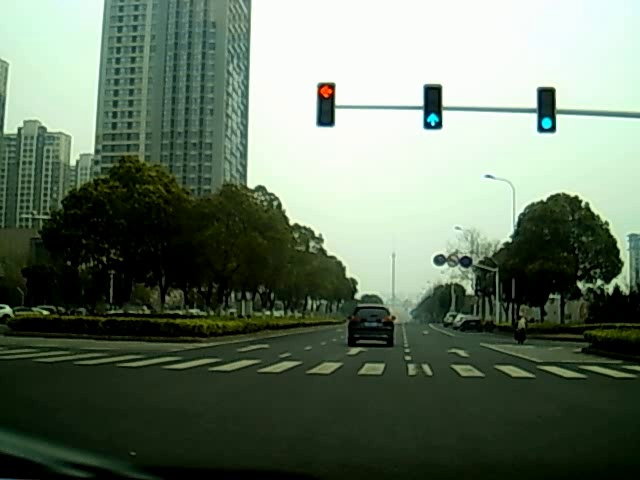Traffic_Light_go: (424, 85, 442, 129), (539, 89, 554, 130)
Traffic_Light_stop: (316, 83, 333, 125)
